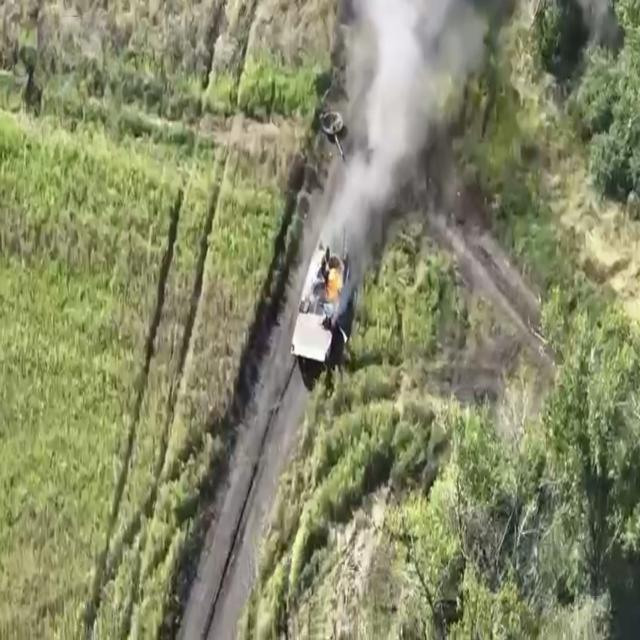AIFV: (289, 239, 355, 373)
